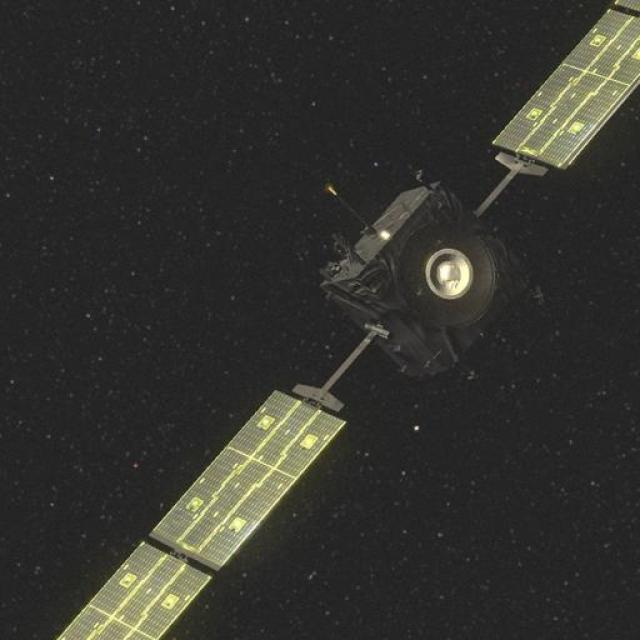smart_1: (197, 94, 593, 490)
